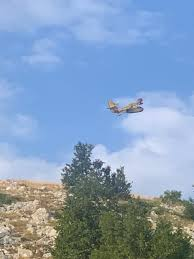plane: (103, 94, 143, 115)
